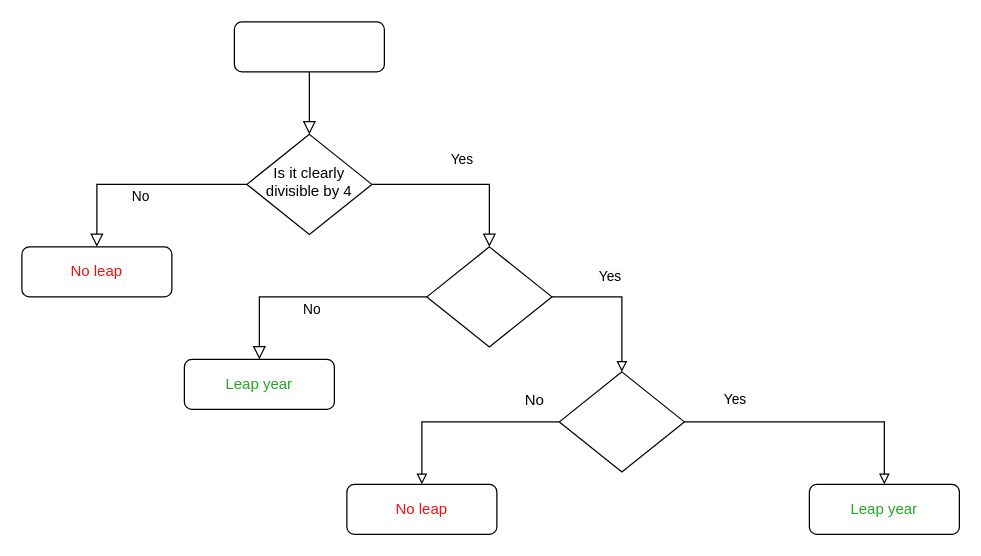
The diagram is 981 pixels wide and 556 high, and some of its shapes have lost their labels. The box of each missing label's shape, as (x1, y1, x2, y2) in pixels:
Is it clearly divisible by 100: (426, 246, 552, 347)
Is it clearly divisible by 400: (558, 371, 684, 472)
START: (233, 21, 384, 72)
